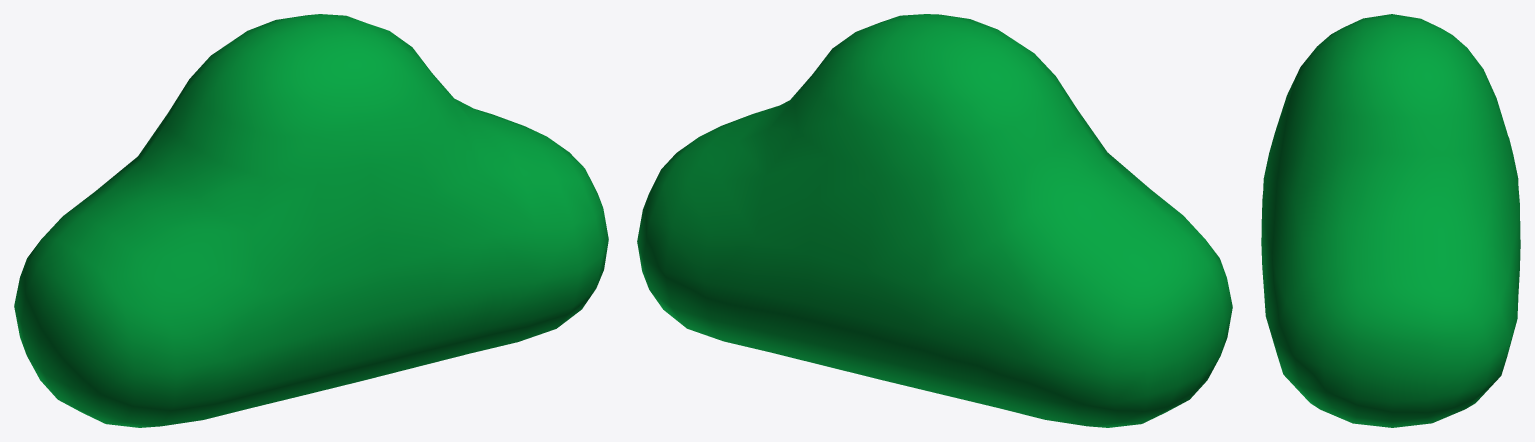
The model's file is Farm_13_Bush_2.glb.
The picture shows the model from 3 angles, left to right: view 1: azimuth 30°, elevation 25°; view 2: azimuth 150°, elevation 25°; view 3: azimuth 270°, elevation 25°; orthographic projection. The views are drawn at different scales.
Visible parts, largest first — view 1: Farm_13_Bush_2; view 2: Farm_13_Bush_2; view 3: Farm_13_Bush_2.
Boxes of the visible parts, box(x1,y1,x2,y2) form: Farm_13_Bush_2: box(14, 14, 608, 427); Farm_13_Bush_2: box(637, 14, 1232, 427); Farm_13_Bush_2: box(1261, 14, 1520, 427).
Bounding box in the file's own units: 1.08 × 0.6501 × 0.4945.
1 material, 1 textured.
